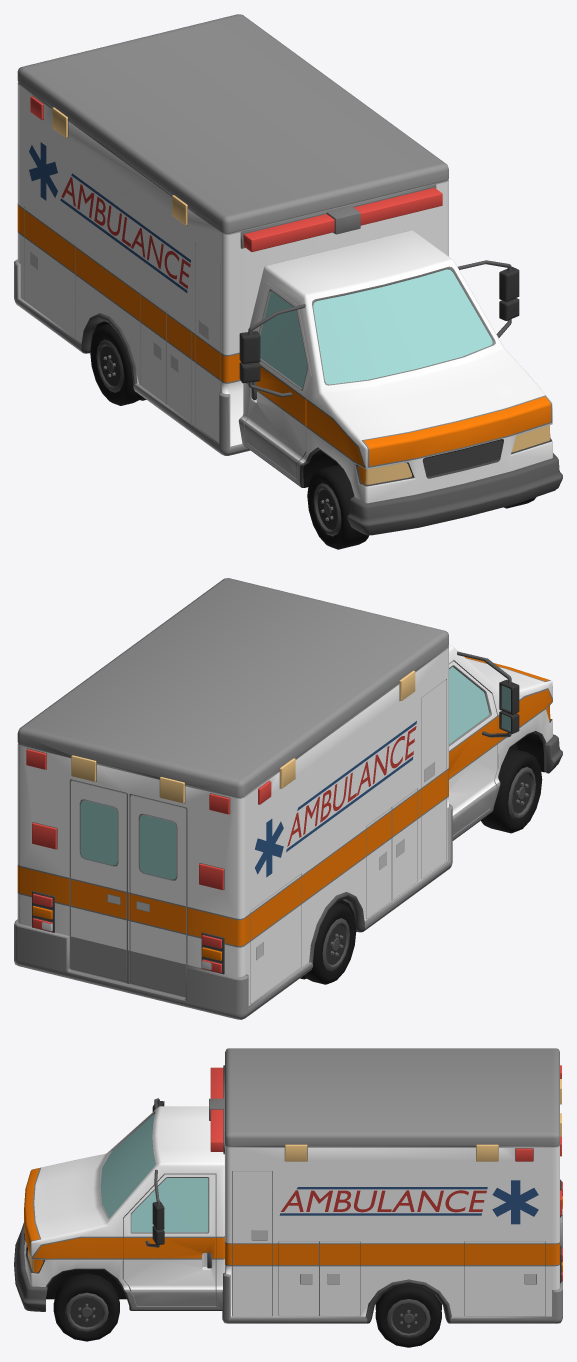
The model's file is SM_Vehicles_Ambulance.fbx.
3 views of the same model, one above another, from view 1: azimuth 30°, elevation 25°; view 2: azimuth 150°, elevation 25°; view 3: azimuth 270°, elevation 25° (orthographic). The views are drawn at different scales.
Parts seen in each view (by area): view 1: SM_Vehicles_Ambulance, SM_Vehicles_Ambulance_FR, SM_Vehicles_Ambulance_RR; view 2: SM_Vehicles_Ambulance, SM_Vehicles_Ambulance_FR, SM_Vehicles_Ambulance_RR; view 3: SM_Vehicles_Ambulance, SM_Vehicles_Ambulance_FL, SM_Vehicles_Ambulance_RL.
Part boxes in pixels (x1,y1,x2,y2): SM_Vehicles_Ambulance: (14, 14, 562, 535); SM_Vehicles_Ambulance_FR: (307, 464, 369, 549); SM_Vehicles_Ambulance_RR: (90, 323, 146, 405); SM_Vehicles_Ambulance: (14, 578, 562, 1019); SM_Vehicles_Ambulance_FR: (481, 748, 542, 833); SM_Vehicles_Ambulance_RR: (300, 902, 356, 984); SM_Vehicles_Ambulance: (14, 1048, 562, 1323); SM_Vehicles_Ambulance_FL: (53, 1273, 119, 1341); SM_Vehicles_Ambulance_RL: (375, 1284, 441, 1347).
Bounding box in the file's own units: 2.45 × 2.27 × 5.27.
